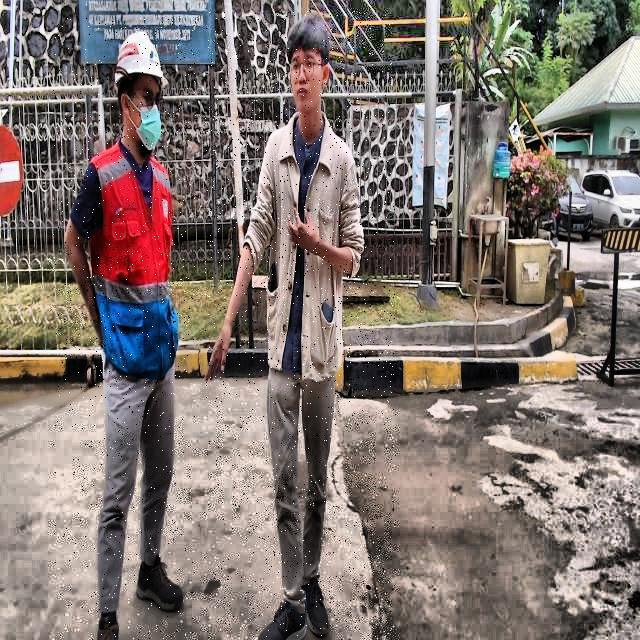safety_helmet: (113, 29, 169, 91)
safety_jacket: (91, 144, 179, 378)
